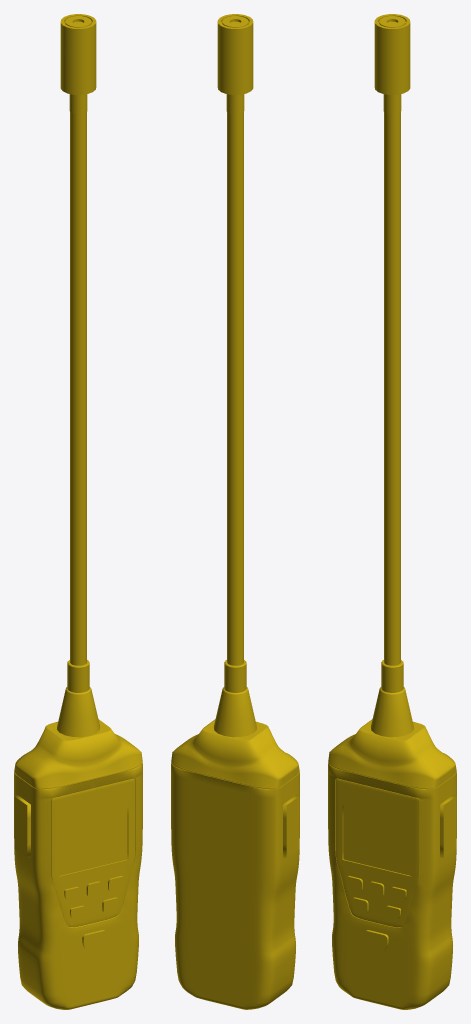
The model's file is GasA.fbx.
3 views of the same model, side by side, from view 1: azimuth 30°, elevation 25°; view 2: azimuth 150°, elevation 25°; view 3: azimuth 330°, elevation 25° (orthographic).
Parts seen in each view (by area): view 1: korpus, provod, ekran, but6; view 2: korpus, provod; view 3: korpus, provod, ekran, but6.
Part boxes in pixels (left/top/right/bottom): korpus: left=14, top=719, right=142, bottom=1009; provod: left=57, top=14, right=99, bottom=737; ekran: left=59, top=804, right=127, bottom=875; but6: left=82, top=930, right=106, bottom=951; korpus: left=171, top=719, right=299, bottom=1009; provod: left=214, top=14, right=256, bottom=737; korpus: left=328, top=719, right=456, bottom=1009; provod: left=371, top=14, right=413, bottom=737; ekran: left=343, top=804, right=411, bottom=875; but6: left=364, top=930, right=388, bottom=951.
Size of the model in its own units: 83.55 by 674 by 40.59.
